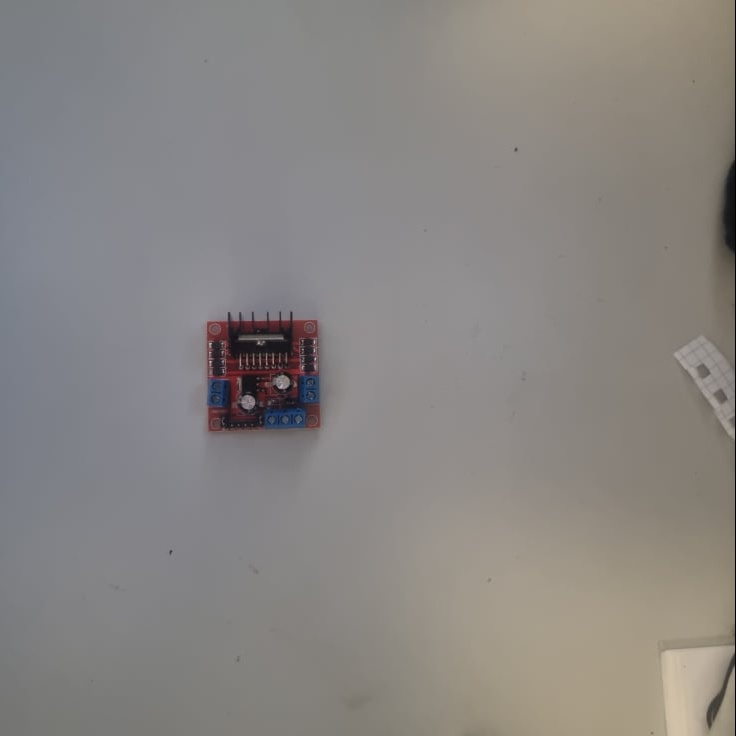MOTOR: (206, 311, 327, 431)
